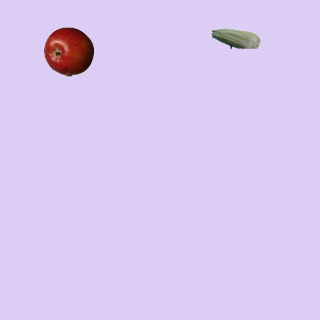Apple Braeburn: (43, 26, 93, 76)
Corn Husk: (210, 13, 260, 63)
